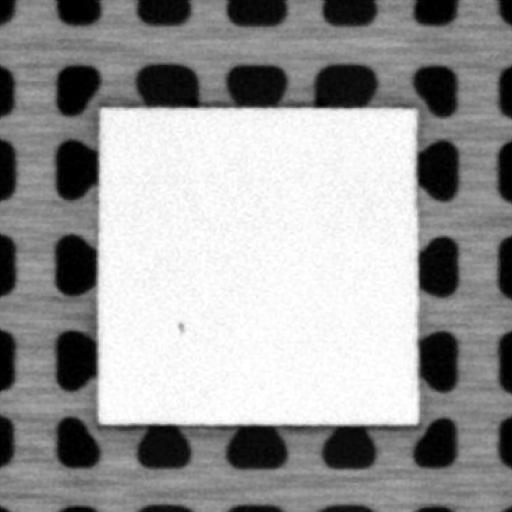DIE_INK: (172, 315, 187, 332)
